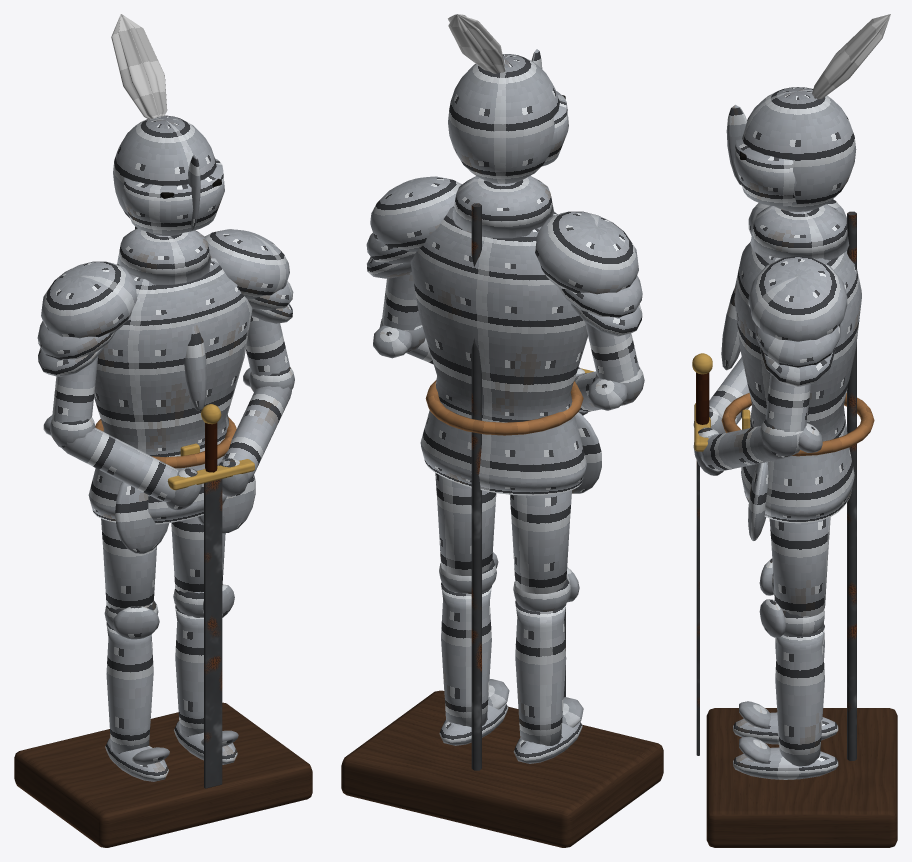
The model's file is armor.glb.
3 renders of one model, left to right at view 1: azimuth 30°, elevation 25°; view 2: azimuth 150°, elevation 25°; view 3: azimuth 270°, elevation 25°, orthographic. The views are drawn at different scales.
Parts seen in each view (by area): view 1: armor, dyn_velvet_variant; view 2: armor, dyn_velvet_variant; view 3: armor, dyn_velvet_variant.
Boxes of the visible parts, x1,y1,x2,y2 form: armor: (14,115,312,847); dyn_velvet_variant: (111,14,167,119); armor: (341,49,663,847); dyn_velvet_variant: (448,14,505,73); armor: (692,87,897,847); dyn_velvet_variant: (812,14,890,99).
Size of the model in its own units: 0.7157 by 2.08 by 0.4948.
Materials: 8 (7 with a texture image).
